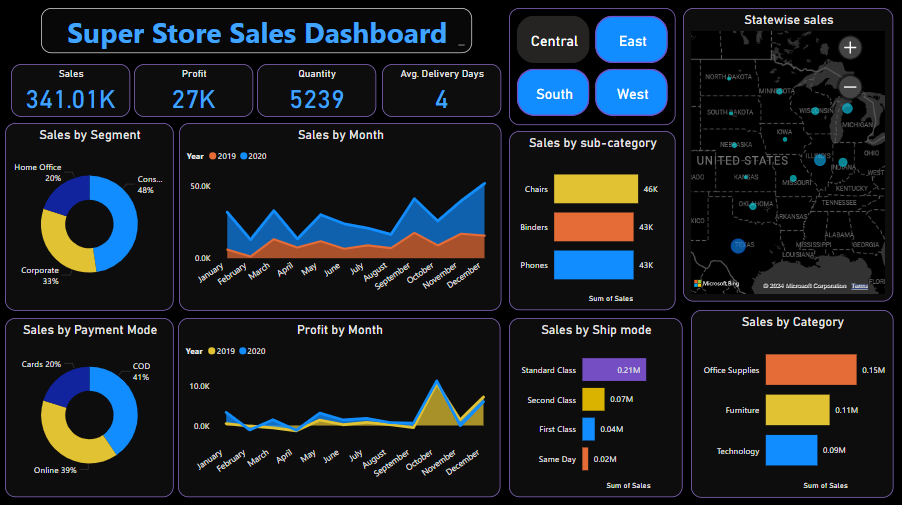

This screenshot's page, from the dashboard's own definition file:
{"tool":"powerbi","page":{"name":"Page 1","canvas":[1280,720],"ordinal":0},"visuals":[{"type":"clusteredBarChart","title":"Sales by sub-category","fields":{"Y":["Sum(SuperStore_Sales_Dataset.Sales)"],"Category":["SuperStore_Sales_Dataset.Sub-Category"]},"box":[723,186.9,236.1,254.1],"z":0},{"type":"barChart","title":"Sales by Category","fields":{"Category":["SuperStore_Sales_Dataset.Category"],"Y":["Sum(SuperStore_Sales_Dataset.Sales)"]},"box":[980.3,441,286.9,265.6],"z":1000},{"type":"clusteredBarChart","title":"Sales by Ship mode","fields":{"Y":["Sum(SuperStore_Sales_Dataset.Sales)"],"Category":["SuperStore_Sales_Dataset.Ship Mode"]},"box":[723,452.5,245.9,254.1],"z":2000},{"type":"stackedAreaChart","title":"Sales by Month","fields":{"Y":["Sum(SuperStore_Sales_Dataset.Sales)"],"Category":["SuperStore_Sales_Dataset.Order Date.Variation.Date Hierarchy.Month","SuperStore_Sales_Dataset.Order Date.Variation.Date Hierarchy.Day"],"Series":["SuperStore_Sales_Dataset.Order Date.Variation.Date Hierarchy.Year"]},"box":[255.7,175.4,457.4,265.6],"z":3000},{"type":"stackedAreaChart","title":"Profit by Month","fields":{"Category":["SuperStore_Sales_Dataset.Order Date.Variation.Date Hierarchy.Month","SuperStore_Sales_Dataset.Order Date.Variation.Date Hierarchy.Day"],"Series":["SuperStore_Sales_Dataset.Order Date.Variation.Date Hierarchy.Year"],"Y":["Sum(SuperStore_Sales_Dataset.Profit)"]},"box":[254.1,452.5,457.4,254.1],"z":4000},{"type":"map","title":"Statewise sales","fields":{"Category":["SuperStore_Sales_Dataset.State"],"Size":["Sum(SuperStore_Sales_Dataset.Sales)"]},"box":[968.9,13.1,298.4,416.4],"z":5000},{"type":"donutChart","title":"Sales by Segment","fields":{"Category":["SuperStore_Sales_Dataset.Segment"],"Y":["Sum(SuperStore_Sales_Dataset.Sales)"]},"box":[8.2,175.4,239.3,265.6],"z":6000},{"type":"donutChart","title":"Sales by Payment Mode","fields":{"Y":["Sum(SuperStore_Sales_Dataset.Sales)"],"Category":["SuperStore_Sales_Dataset.Payment Mode"]},"box":[8.2,452.5,239.3,254.1],"z":7000},{"type":"advancedSlicerVisual","fields":{"Values":["SuperStore_Sales_Dataset.Region"]},"box":[723,13.1,236.1,165.6],"z":8000},{"type":"textbox","title":"Super Store Sales Dashboard","box":[59,13.1,611.5,63.9],"z":9000},{"type":"card","title":"Sales","fields":{"Values":["Sum(SuperStore_Sales_Dataset.Sales)"]},"box":[16.4,91.8,168.9,75.4],"z":10000},{"type":"card","title":"Profit","fields":{"Values":["Sum(SuperStore_Sales_Dataset.Profit)"]},"box":[191.8,91.8,168.9,75.4],"z":11000},{"type":"card","title":"Quantity","fields":{"Values":["Sum(SuperStore_Sales_Dataset.Quantity)"]},"box":[365.6,91.8,168.9,75.4],"z":12000},{"type":"card","title":"Avg. Delivery Days","fields":{"Values":["Avg(SuperStore_Sales_Dataset.AvgDelivery)"]},"box":[542.6,91.8,168.9,75.4],"z":13000}]}

Visuals, with their boxes in screenshot pixels (x1, y1, x2, y2), scaled from the page's 1280x720 canvas onto the 902x505 screenshot:
"Sales by sub-category" clusteredBarChart: <box>509,131,676,309</box>
"Sales by Category" barChart: <box>691,309,893,496</box>
"Sales by Ship mode" clusteredBarChart: <box>509,317,683,496</box>
"Sales by Month" stackedAreaChart: <box>180,123,503,309</box>
"Profit by Month" stackedAreaChart: <box>179,317,501,496</box>
"Statewise sales" map: <box>683,9,893,301</box>
"Sales by Segment" donutChart: <box>6,123,174,309</box>
"Sales by Payment Mode" donutChart: <box>6,317,174,496</box>
advancedSlicerVisual - SuperStore_Sales_Dataset.Region: <box>509,9,676,125</box>
"Super Store Sales Dashboard" textbox: <box>42,9,472,54</box>
"Sales" card: <box>12,64,131,117</box>
"Profit" card: <box>135,64,254,117</box>
"Quantity" card: <box>258,64,377,117</box>
"Avg. Delivery Days" card: <box>382,64,501,117</box>
